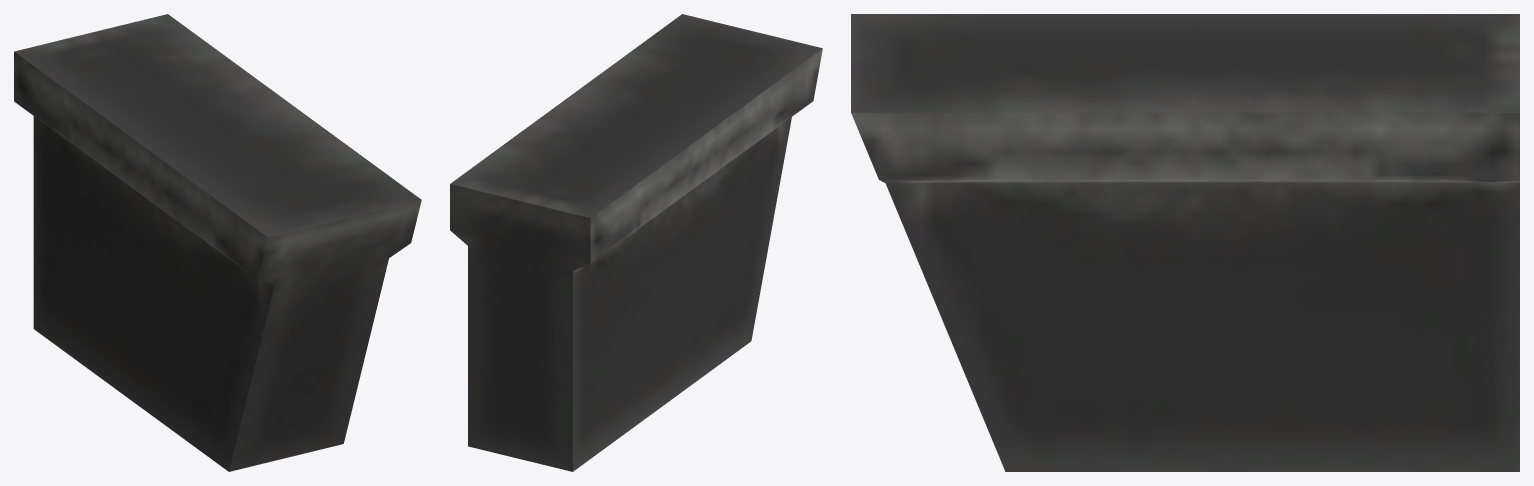
3 renders of one model, left to right at view 1: azimuth 30°, elevation 25°; view 2: azimuth 150°, elevation 25°; view 3: azimuth 270°, elevation 25°, orthographic. The views are drawn at different scales.
Visible parts, largest first — view 1: TW_5a71e0048dc32e000c52ecc8_PZ_Import; view 2: TW_5a71e0048dc32e000c52ecc8_PZ_Import; view 3: TW_5a71e0048dc32e000c52ecc8_PZ_Import.
Part boxes in pixels (x1,y1,x2,y2): TW_5a71e0048dc32e000c52ecc8_PZ_Import: (14,14,421,471); TW_5a71e0048dc32e000c52ecc8_PZ_Import: (450,14,822,471); TW_5a71e0048dc32e000c52ecc8_PZ_Import: (851,14,1519,471).
Bounding box in the file's own units: 0.00265 × 0.00758 × 0.00465.
1 material, 1 textured.
